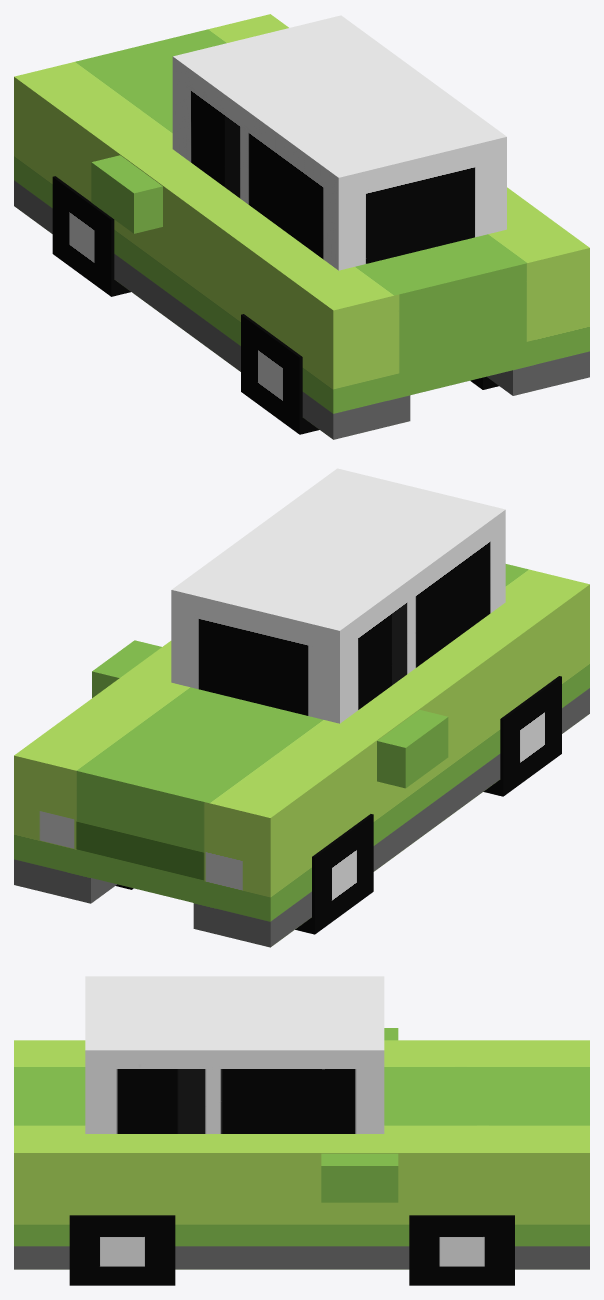
The model's file is green car.fbx.
3 views of the same model, one above another, from view 1: azimuth 30°, elevation 25°; view 2: azimuth 150°, elevation 25°; view 3: azimuth 270°, elevation 25° (orthographic). The views are drawn at different scales.
Visible parts, largest first — view 1: midden, dakje, wiel6, wiel5, deurknop5; view 2: midden, dakje, wiel6, wiel5, deurknop5, deurknop1; view 3: midden, dakje, wiel4, wiel3, deurknop1.
Part boxes in pixels (x1,y1,x2,y2): midden: (14,14,589,439); dakje: (172,15,506,270); wiel6: (52,176,130,296); wiel5: (241,314,319,434); deurknop5: (91,155,162,233); midden: (14,564,589,947); dakje: (171,468,505,723); wiel6: (295,814,373,934); wiel5: (483,676,561,796); deurknop5: (377,709,448,788); deurknop1: (92,640,161,697); midden: (14,1040,589,1269); dakje: (85,976,384,1133); wiel4: (69,1215,175,1285); wiel3: (409,1215,514,1285); deurknop1: (321,1153,398,1202).
Bounding box in the file's own units: 2.04 × 1.48 × 3.6.
4 materials, 4 textured.
